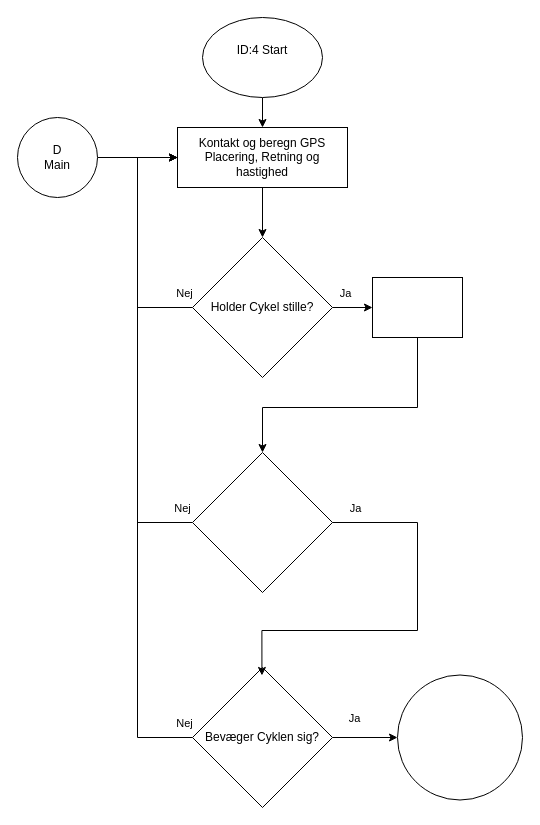
Some shapes in this 540 by 825 pixel diagram are drawn without their labels. Here are the shapes that lost their labels. From the top down, the centre of each, then its label:
At pixel 417 307: "Forsæt Timer".
At pixel 262 522: "Er der gået 3 minutter?".
At pixel 459 737: "Seng placering til Thingsboard".
